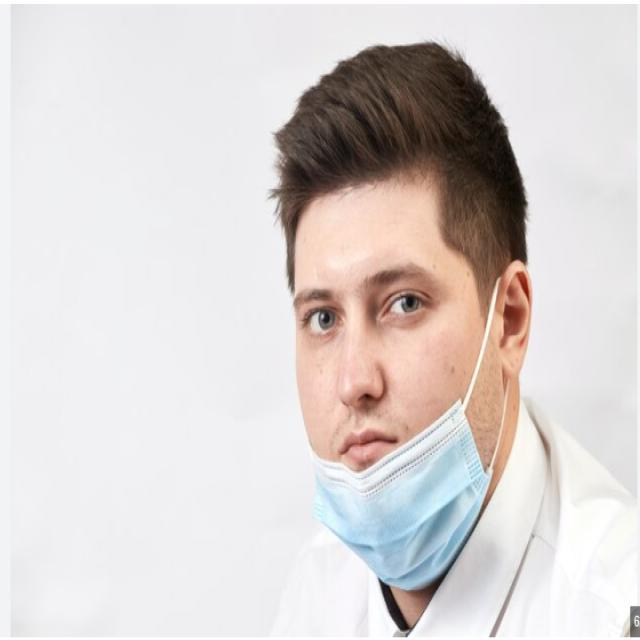face_half_mask: (278, 188, 532, 548)
